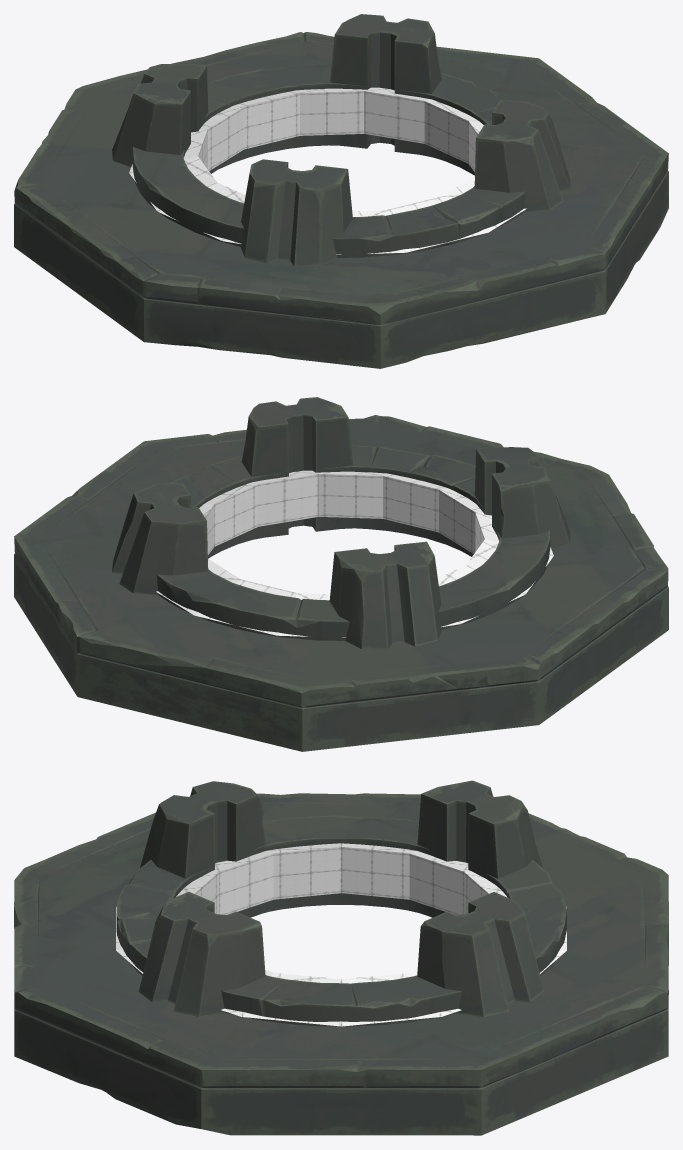
Rendered from ElevatorBase.fbx.
3 renders of one model, top to bottom at view 1: azimuth 30°, elevation 25°; view 2: azimuth 150°, elevation 25°; view 3: azimuth 270°, elevation 25°, orthographic. The views are drawn at different scales.
Parts seen in each view (by area): view 1: ElevatorFloor_uv1, BaseElevatorDecim_uv1, Torus; view 2: ElevatorFloor_uv1, BaseElevatorDecim_uv1, Torus; view 3: ElevatorFloor_uv1, BaseElevatorDecim_uv1, Torus.
Part boxes in pixels (x1,y1,x2,y2): ElevatorFloor_uv1: [14, 32, 668, 368]; BaseElevatorDecim_uv1: [112, 14, 570, 266]; Torus: [129, 87, 526, 254]; ElevatorFloor_uv1: [14, 415, 668, 751]; BaseElevatorDecim_uv1: [112, 397, 570, 649]; Torus: [156, 470, 553, 637]; ElevatorFloor_uv1: [14, 793, 668, 1135]; BaseElevatorDecim_uv1: [116, 780, 566, 1026]; Torus: [116, 843, 566, 1026].
Size of what is drawn, in the model's own units: 2139 by 502 by 2140.
